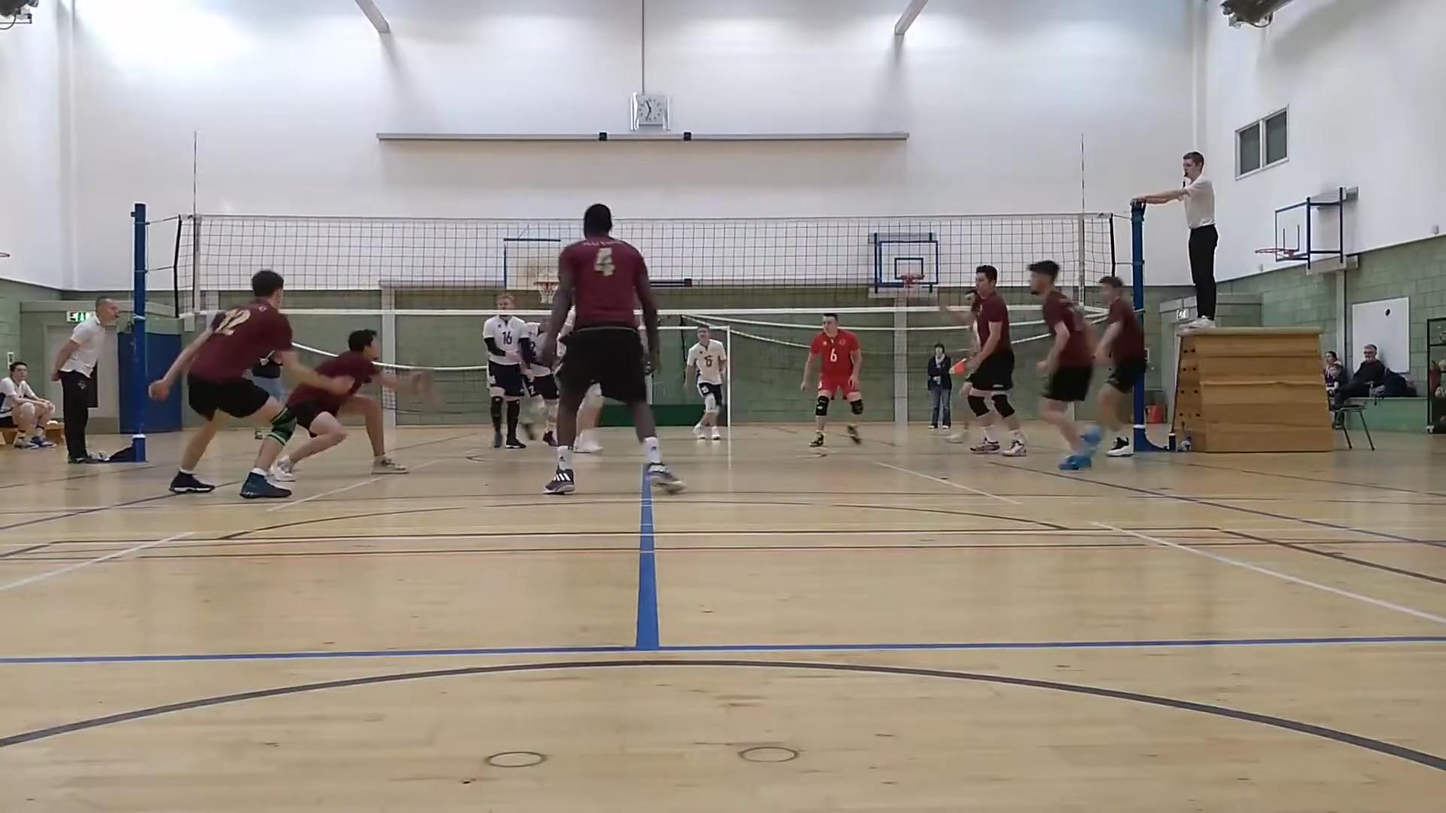difesa: (279, 329, 438, 477)
